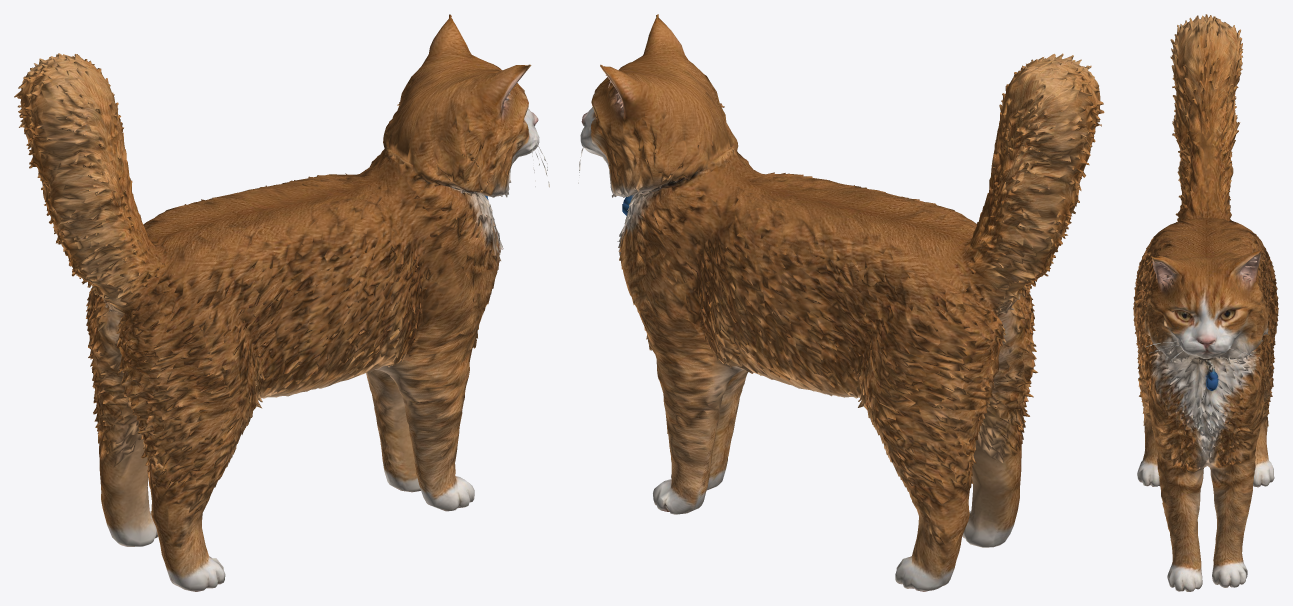
Rendered from CHEDDARVPD.glb.
3 renders of one model, left to right at view 1: azimuth 30°, elevation 25°; view 2: azimuth 150°, elevation 25°; view 3: azimuth 270°, elevation 25°, orthographic. The views are drawn at different scales.
Visible parts, largest first — view 1: tripo_node_597611a3-5478-4726-b10e-23b267934ae9; view 2: tripo_node_597611a3-5478-4726-b10e-23b267934ae9; view 3: tripo_node_597611a3-5478-4726-b10e-23b267934ae9.
Boxes of the visible parts, left/top/right/bottom form: tripo_node_597611a3-5478-4726-b10e-23b267934ae9: left=14, top=14, right=549, bottom=591; tripo_node_597611a3-5478-4726-b10e-23b267934ae9: left=578, top=14, right=1104, bottom=591; tripo_node_597611a3-5478-4726-b10e-23b267934ae9: left=1133, top=14, right=1278, bottom=591.
Bounding box in the file's own units: 1.02 × 0.9993 × 0.3114.
Materials: 1 (1 with a texture image).
